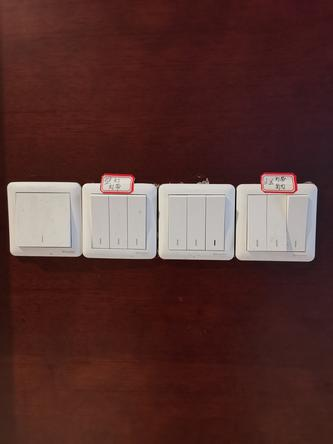switch: (9, 185, 73, 250), (261, 193, 290, 253), (282, 193, 310, 253), (245, 190, 271, 254), (104, 191, 132, 250), (88, 189, 112, 252), (202, 191, 226, 253), (126, 192, 150, 253), (165, 191, 189, 250), (185, 194, 208, 251)
